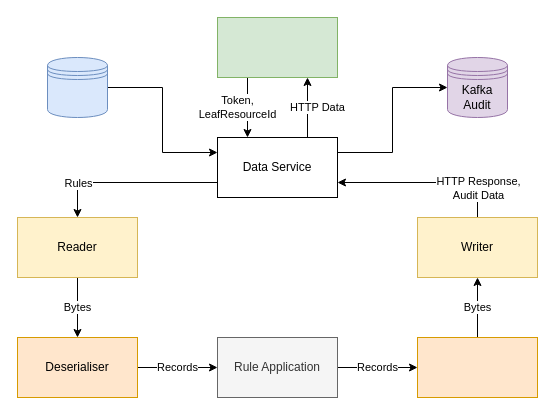
This 555x415 diagram has some shape labels left out. Each missing label, with the box of its shape:
Rules DB: (46, 56, 108, 118)
Serialiser: (416, 336, 538, 398)
Web Controller: (216, 16, 338, 78)
